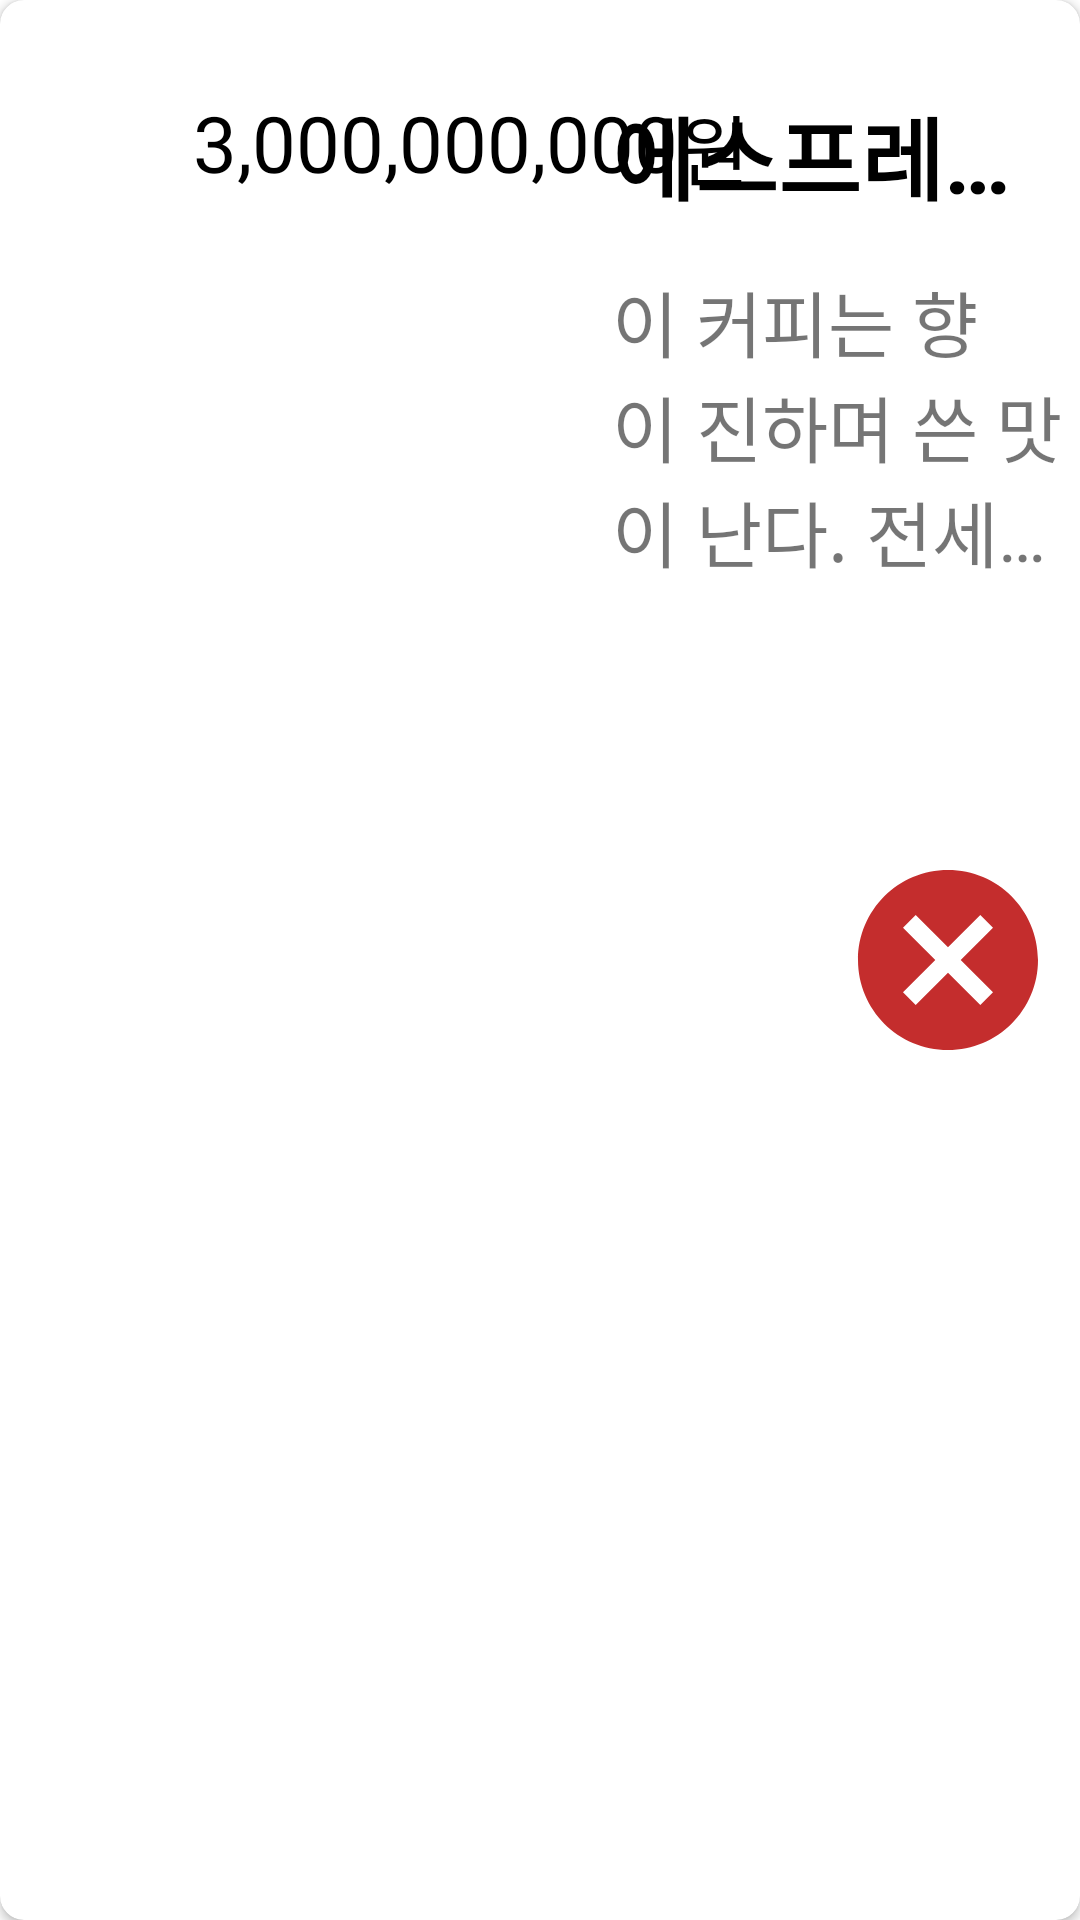

Screen size 1080px x 1920px. Icon name, then its box in pixels as {"x1": x1, "y1": y1, "x2": x2, "y2": y2}:
cancel: {"x1": 858, "y1": 870, "x2": 1038, "y2": 1050}
